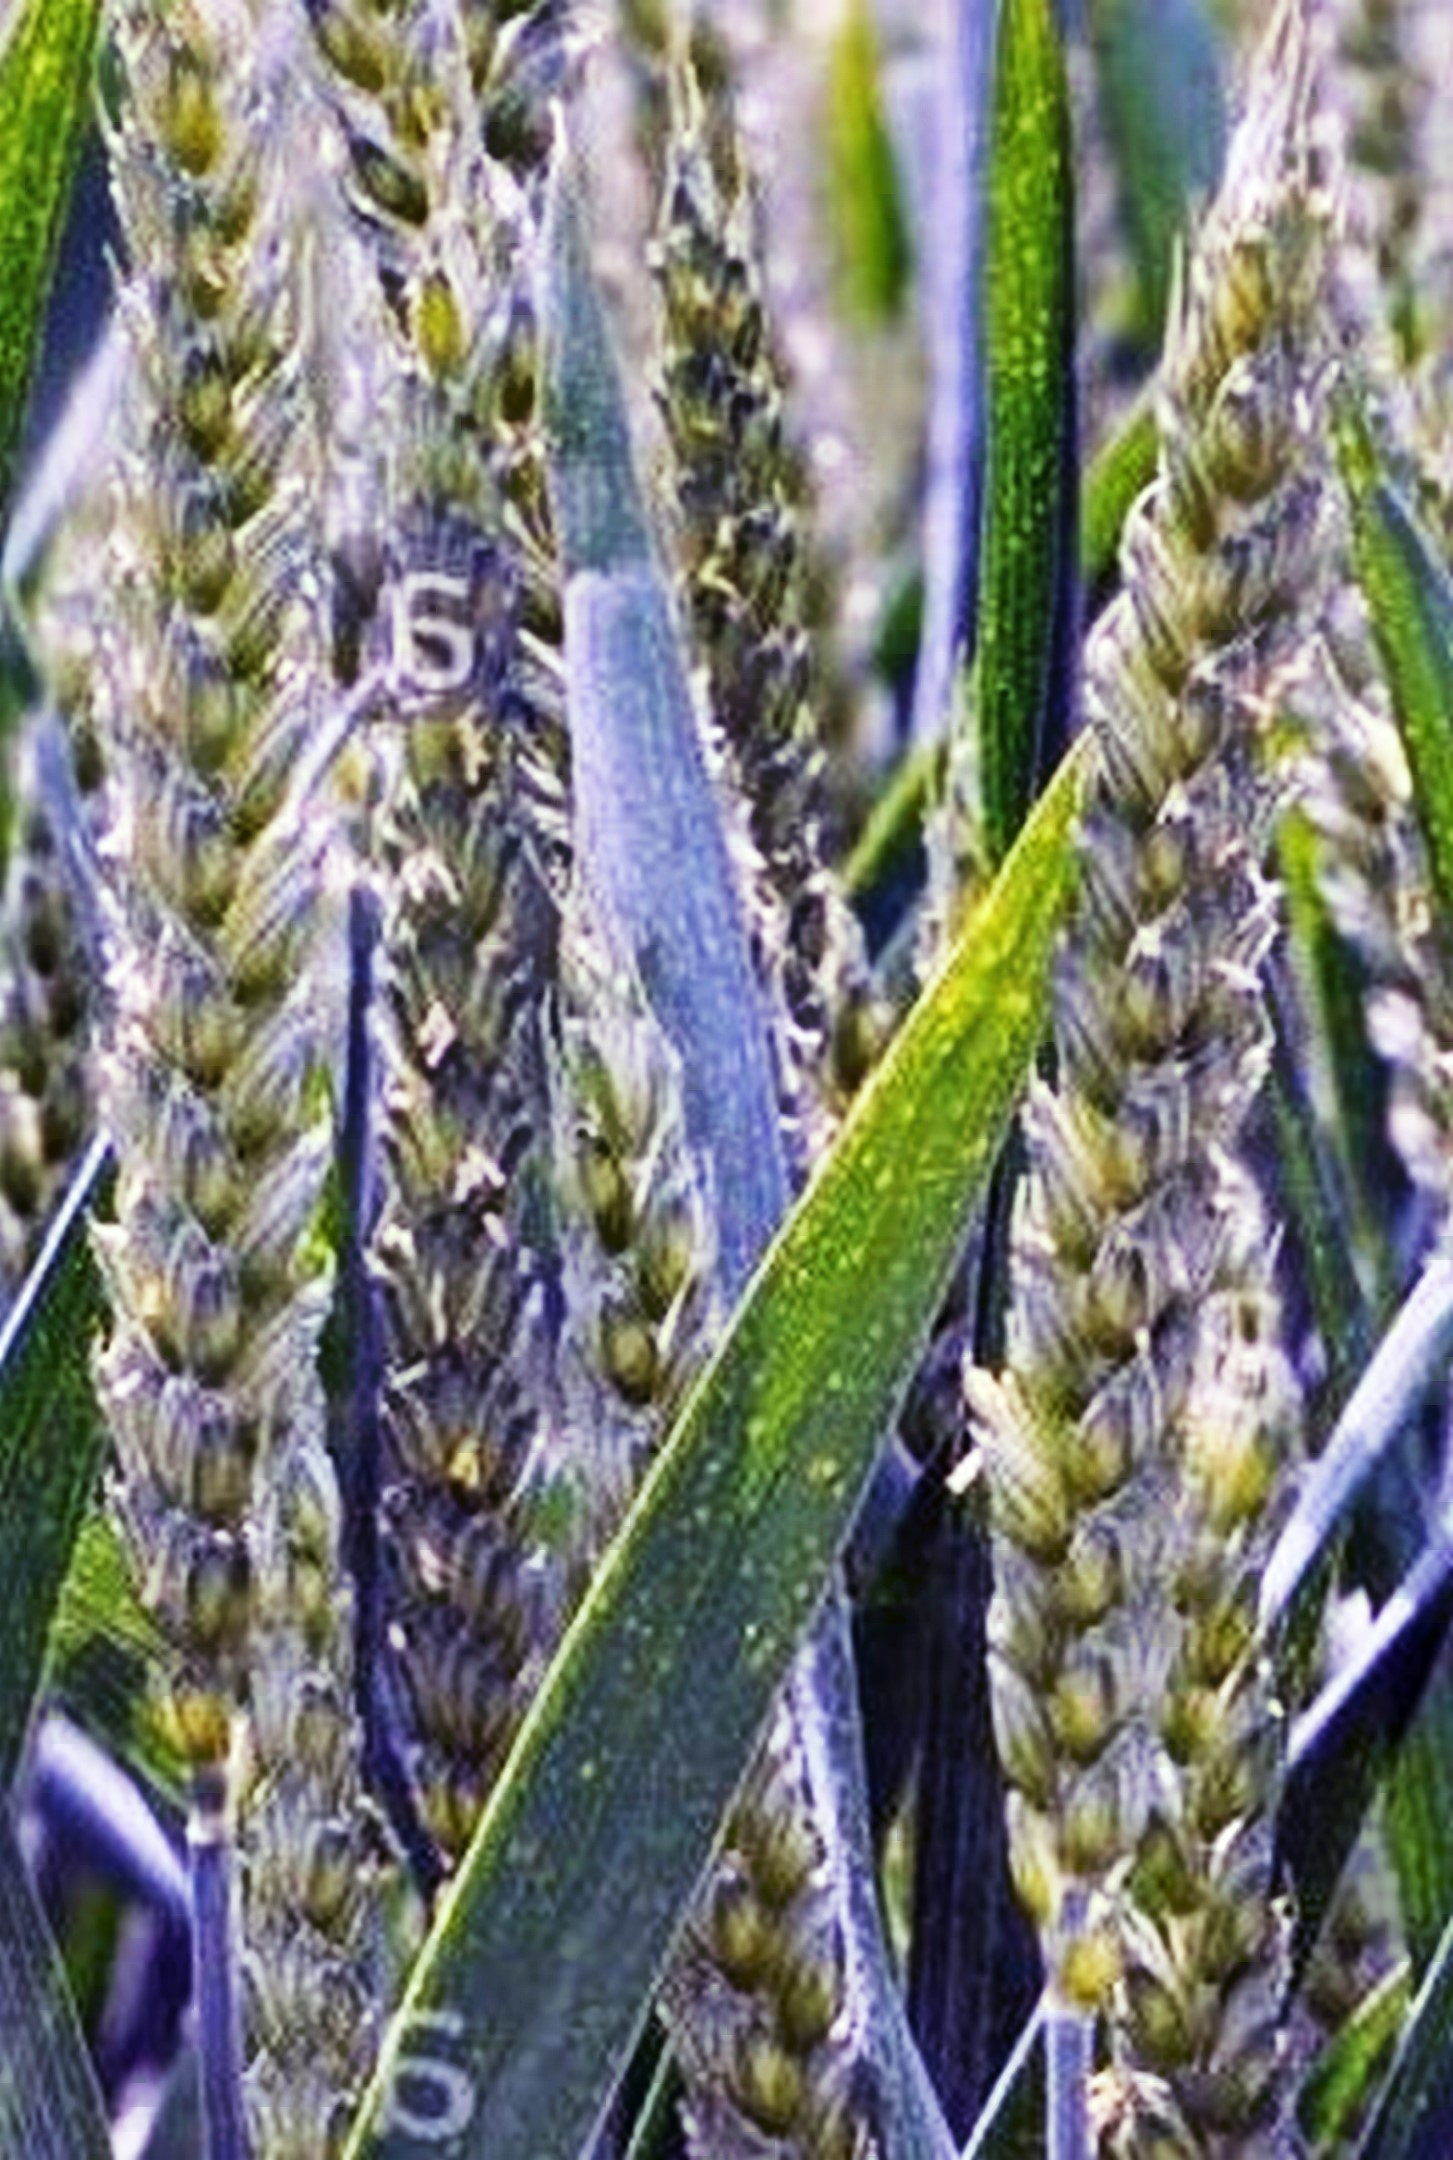Healthy Wheat: (958, 169, 1344, 1819)
